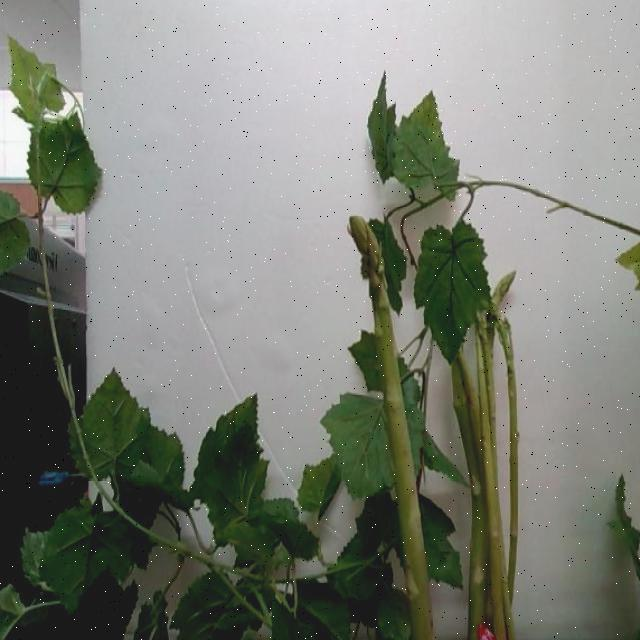aspargus: (353, 218, 435, 640)
